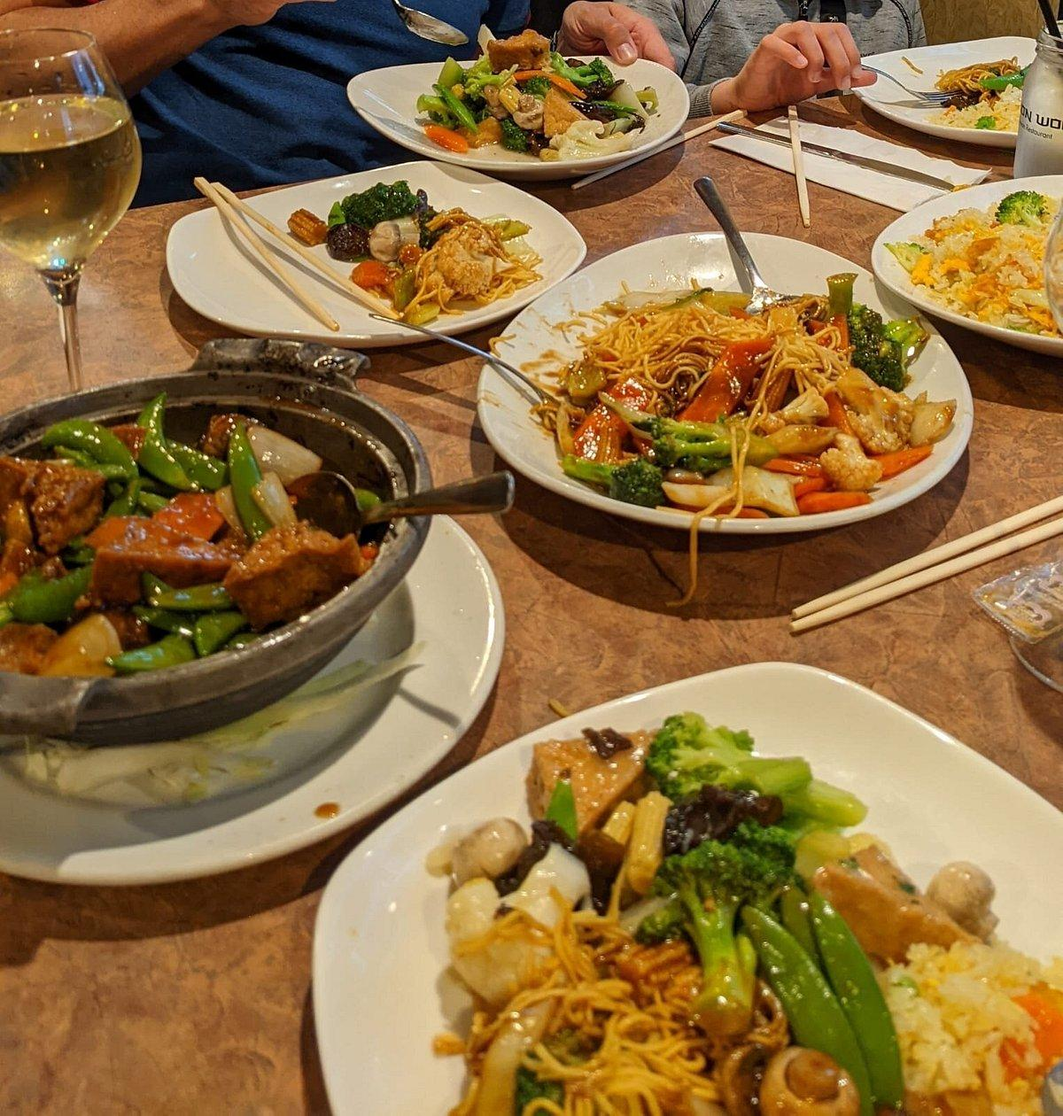Braised Crucian Carp: (331, 649, 1050, 1105), (2, 363, 489, 832), (493, 230, 963, 530), (172, 165, 562, 347), (345, 56, 657, 182)
